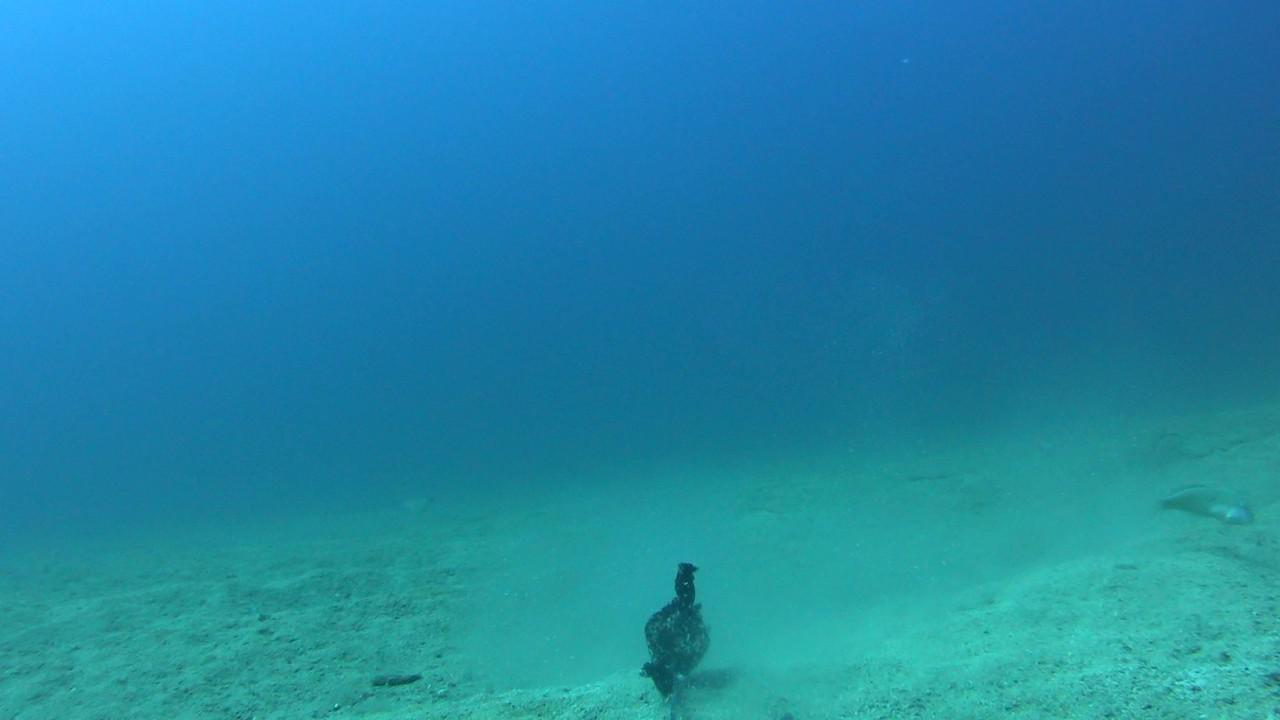myliobatis: (343, 488, 470, 527)
raor: (1148, 481, 1260, 528)
